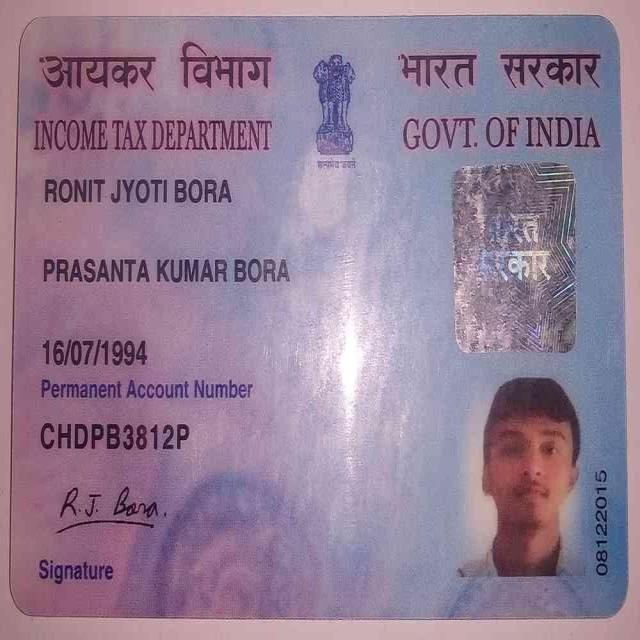pan_card: (19, 17, 622, 615)
